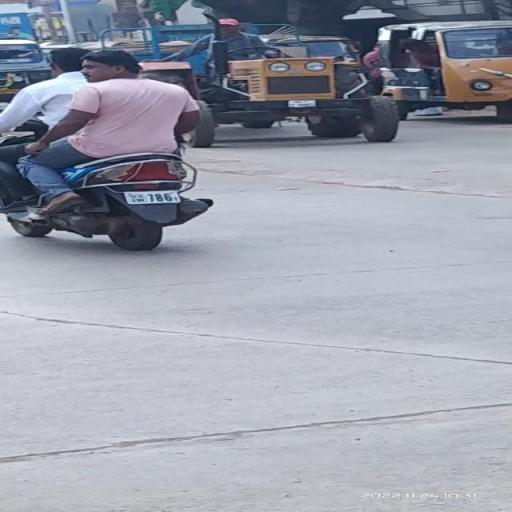bike: (4, 47, 224, 252)
withouthelmet: (83, 51, 138, 79), (49, 48, 85, 72)
